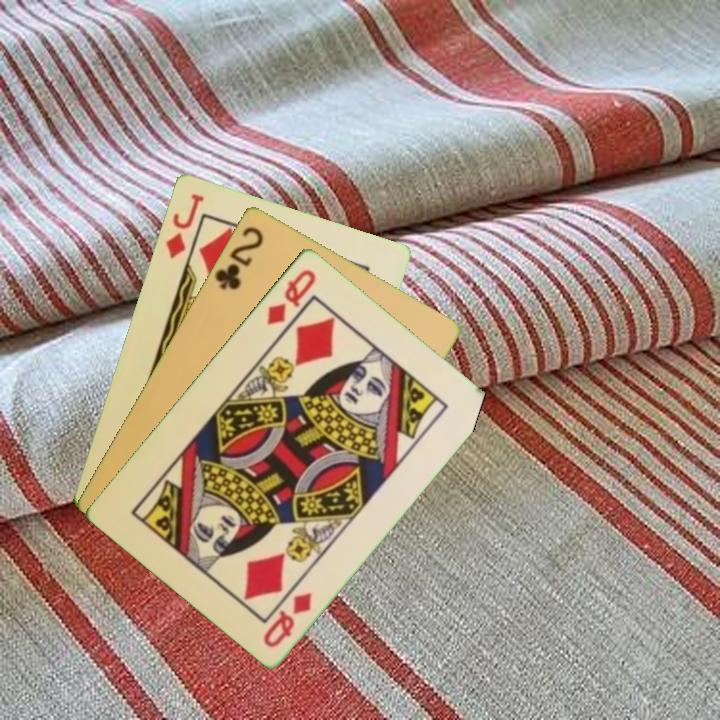2c: (211, 222, 266, 293)
Jd: (161, 189, 207, 261)
Qd: (263, 265, 319, 328), (259, 588, 315, 650)
